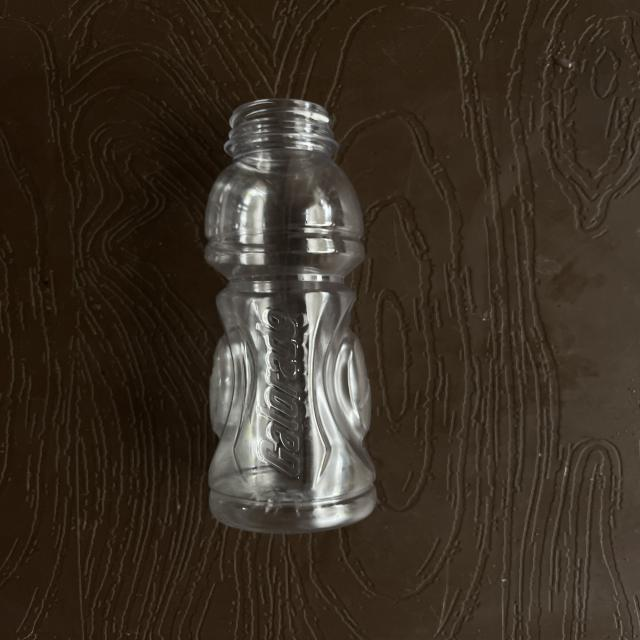PET_ClearBottle: (66, 99, 425, 541)
